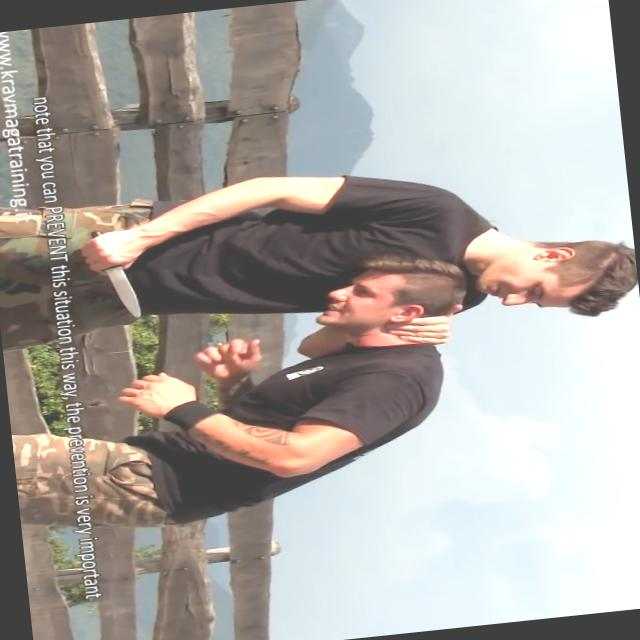knife: (74, 221, 150, 330)
